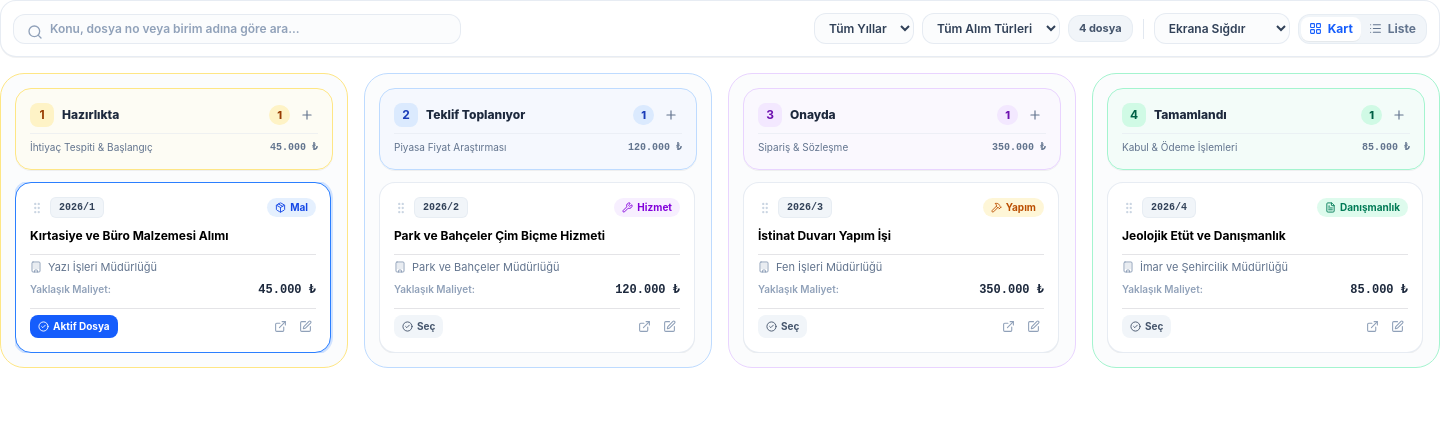
it: TakipKanbanBoard (Issue #11) › arama kutusuna yazılan metne göre dosyaları süzer
The width and height of the screenshot is (1440, 434).
Type "İstinat" into the field with placeholder "Konu, dosya no veya birim adına göre ara..." at [237, 28], box [13, 14, 461, 44]
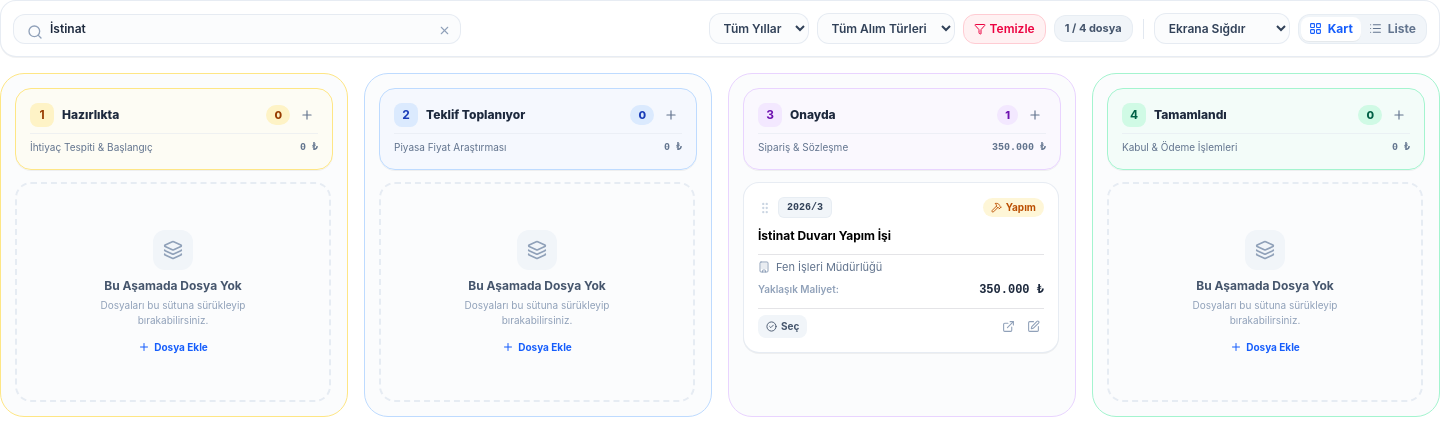
Expected: the heading "İstinat Duvarı Yapım İşi" is shown, [758, 228, 891, 243]
Expected: the heading "Kırtasiye ve Büro Malzemesi Alımı" is gone
